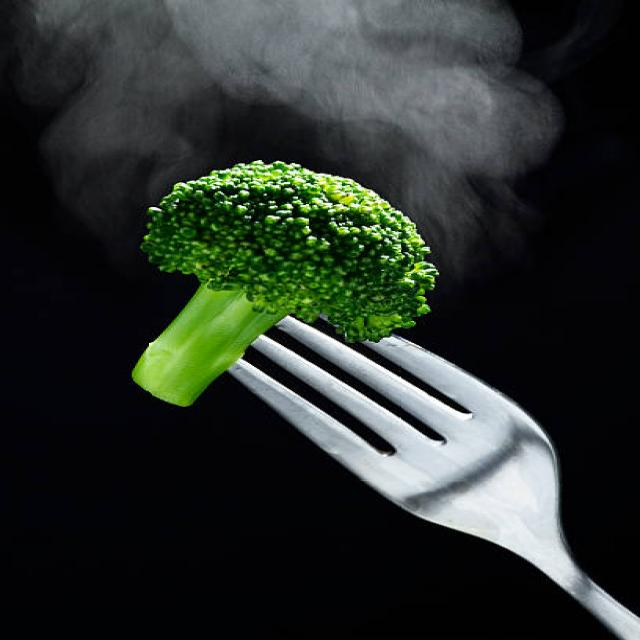broccoli: (78, 121, 420, 338)
